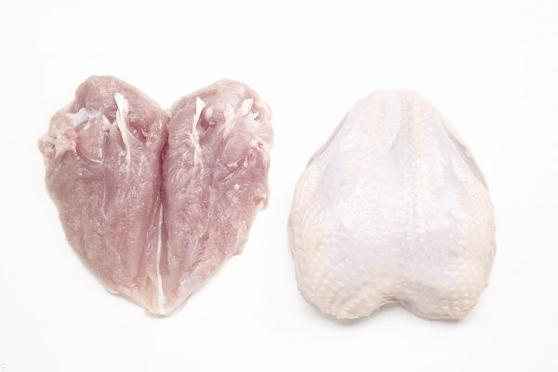chicken_fillet: (162, 70, 277, 333), (45, 80, 168, 313)
